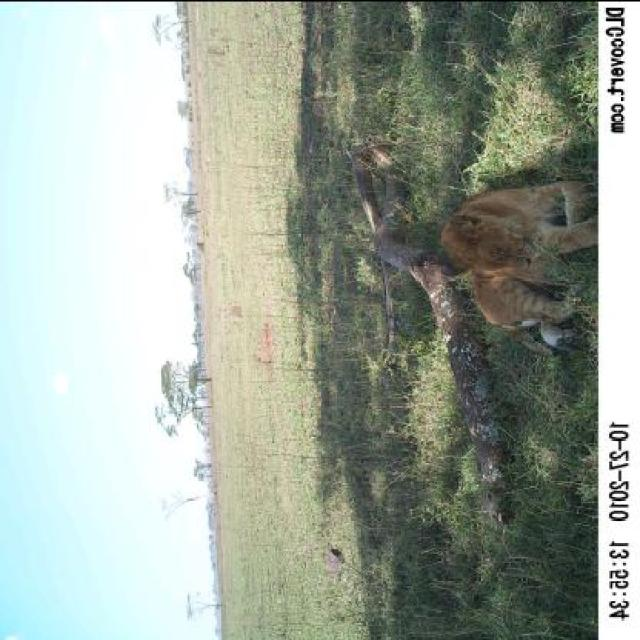Lion: (418, 154, 592, 375)
